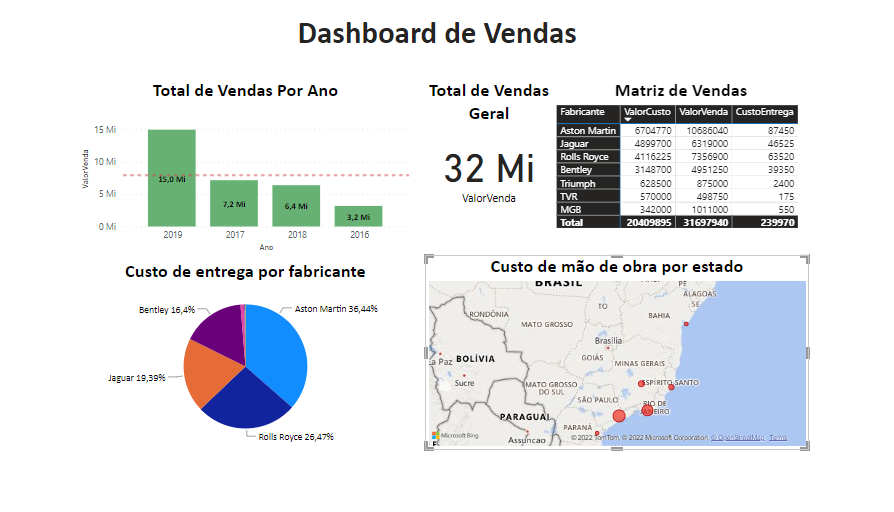

Layout of this report page (visuals, bound fields, positions):
{"tool":"powerbi","page":{"name":"Página 1","canvas":[1280,720],"ordinal":0},"visuals":[{"type":"clusteredColumnChart","title":"Total de Vendas Por Ano","fields":{"Y":["Sum(VendaCarros.ValorVenda)"],"Category":["VendaCarros.Ano"]},"box":[141.8,118.4,461.1,242.2],"z":0},{"type":"pieChart","title":"Custo de entrega por fabricante","fields":{"Category":["VendaCarros.Fabricante"],"Y":["Sum(VendaCarros.CustoEntrega)"]},"box":[141.8,367.5,461.1,261.5],"z":1000},{"type":"map","title":"Custo de mão de obra por estado","fields":{"Category":["VendaCarros.Estado"],"Size":["Sum(VendaCarros.CustoMaoDeObra)"]},"box":[619.4,360.6,528.5,268.4],"z":2000},{"type":"card","title":"Total de Vendas Geral","fields":{"Values":["Sum(VendaCarros.ValorVenda)"]},"box":[619.4,118.4,176.2,188.6],"z":3000},{"type":"pivotTable","title":"Matriz de Vendas","fields":{"Values":["Sum(VendaCarros.ValorCusto)","Sum(VendaCarros.ValorVenda)","Sum(VendaCarros.CustoEntrega)"],"Rows":["VendaCarros.Fabricante"]},"box":[795.5,118.4,352.3,242.2],"z":4000},{"type":"textbox","box":[0,23.4,1280,55.3],"z":5000}]}

Visuals, with their boxes in screenshot pixels (x1, y1, x2, y2), scaled from the page's 1280x720 canvas onto the 894x512 screenshot:
"Total de Vendas Por Ano" clusteredColumnChart: rect(99, 84, 421, 256)
"Custo de entrega por fabricante" pieChart: rect(99, 261, 421, 447)
"Custo de mão de obra por estado" map: rect(433, 256, 802, 447)
"Total de Vendas Geral" card: rect(433, 84, 556, 218)
"Matriz de Vendas" pivotTable: rect(556, 84, 802, 256)
textbox: rect(0, 17, 893, 56)
